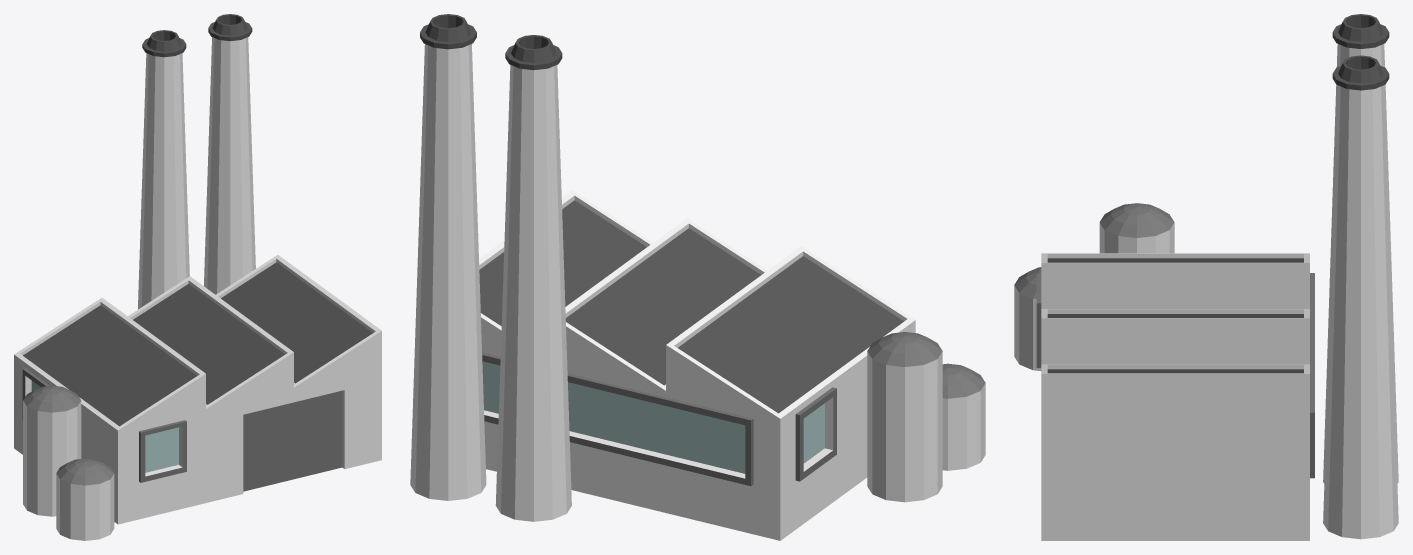
The model's file is 1266 Factory.gltf.
3 views of the same model, side by side, from view 1: azimuth 30°, elevation 25°; view 2: azimuth 150°, elevation 25°; view 3: azimuth 270°, elevation 25° (orthographic). The views are drawn at different scales.
Visible parts, largest first — view 1: node-0; view 2: node-0; view 3: node-0.
Part boxes in pixels (bbox=[...]): node-0: bbox=[14, 14, 381, 540]; node-0: bbox=[410, 14, 985, 540]; node-0: bbox=[1014, 14, 1398, 540].
Bounding box in the file's own units: 139 × 149 × 113.
1 material, 1 textured.
